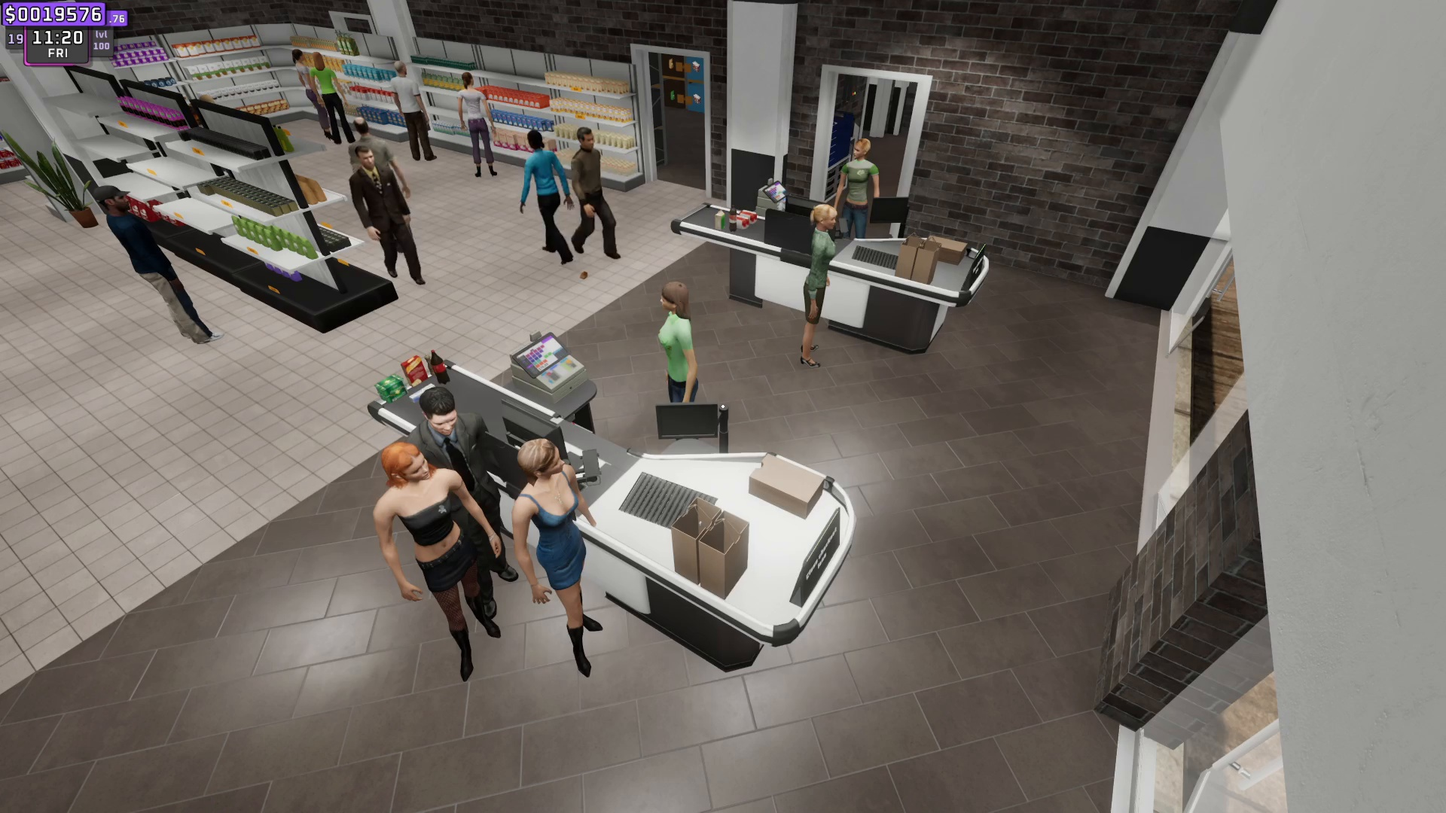Client: (516, 436, 616, 677), (383, 462, 490, 645), (420, 393, 513, 592), (804, 202, 839, 381)
Employee: (645, 283, 703, 398), (839, 149, 880, 231)
